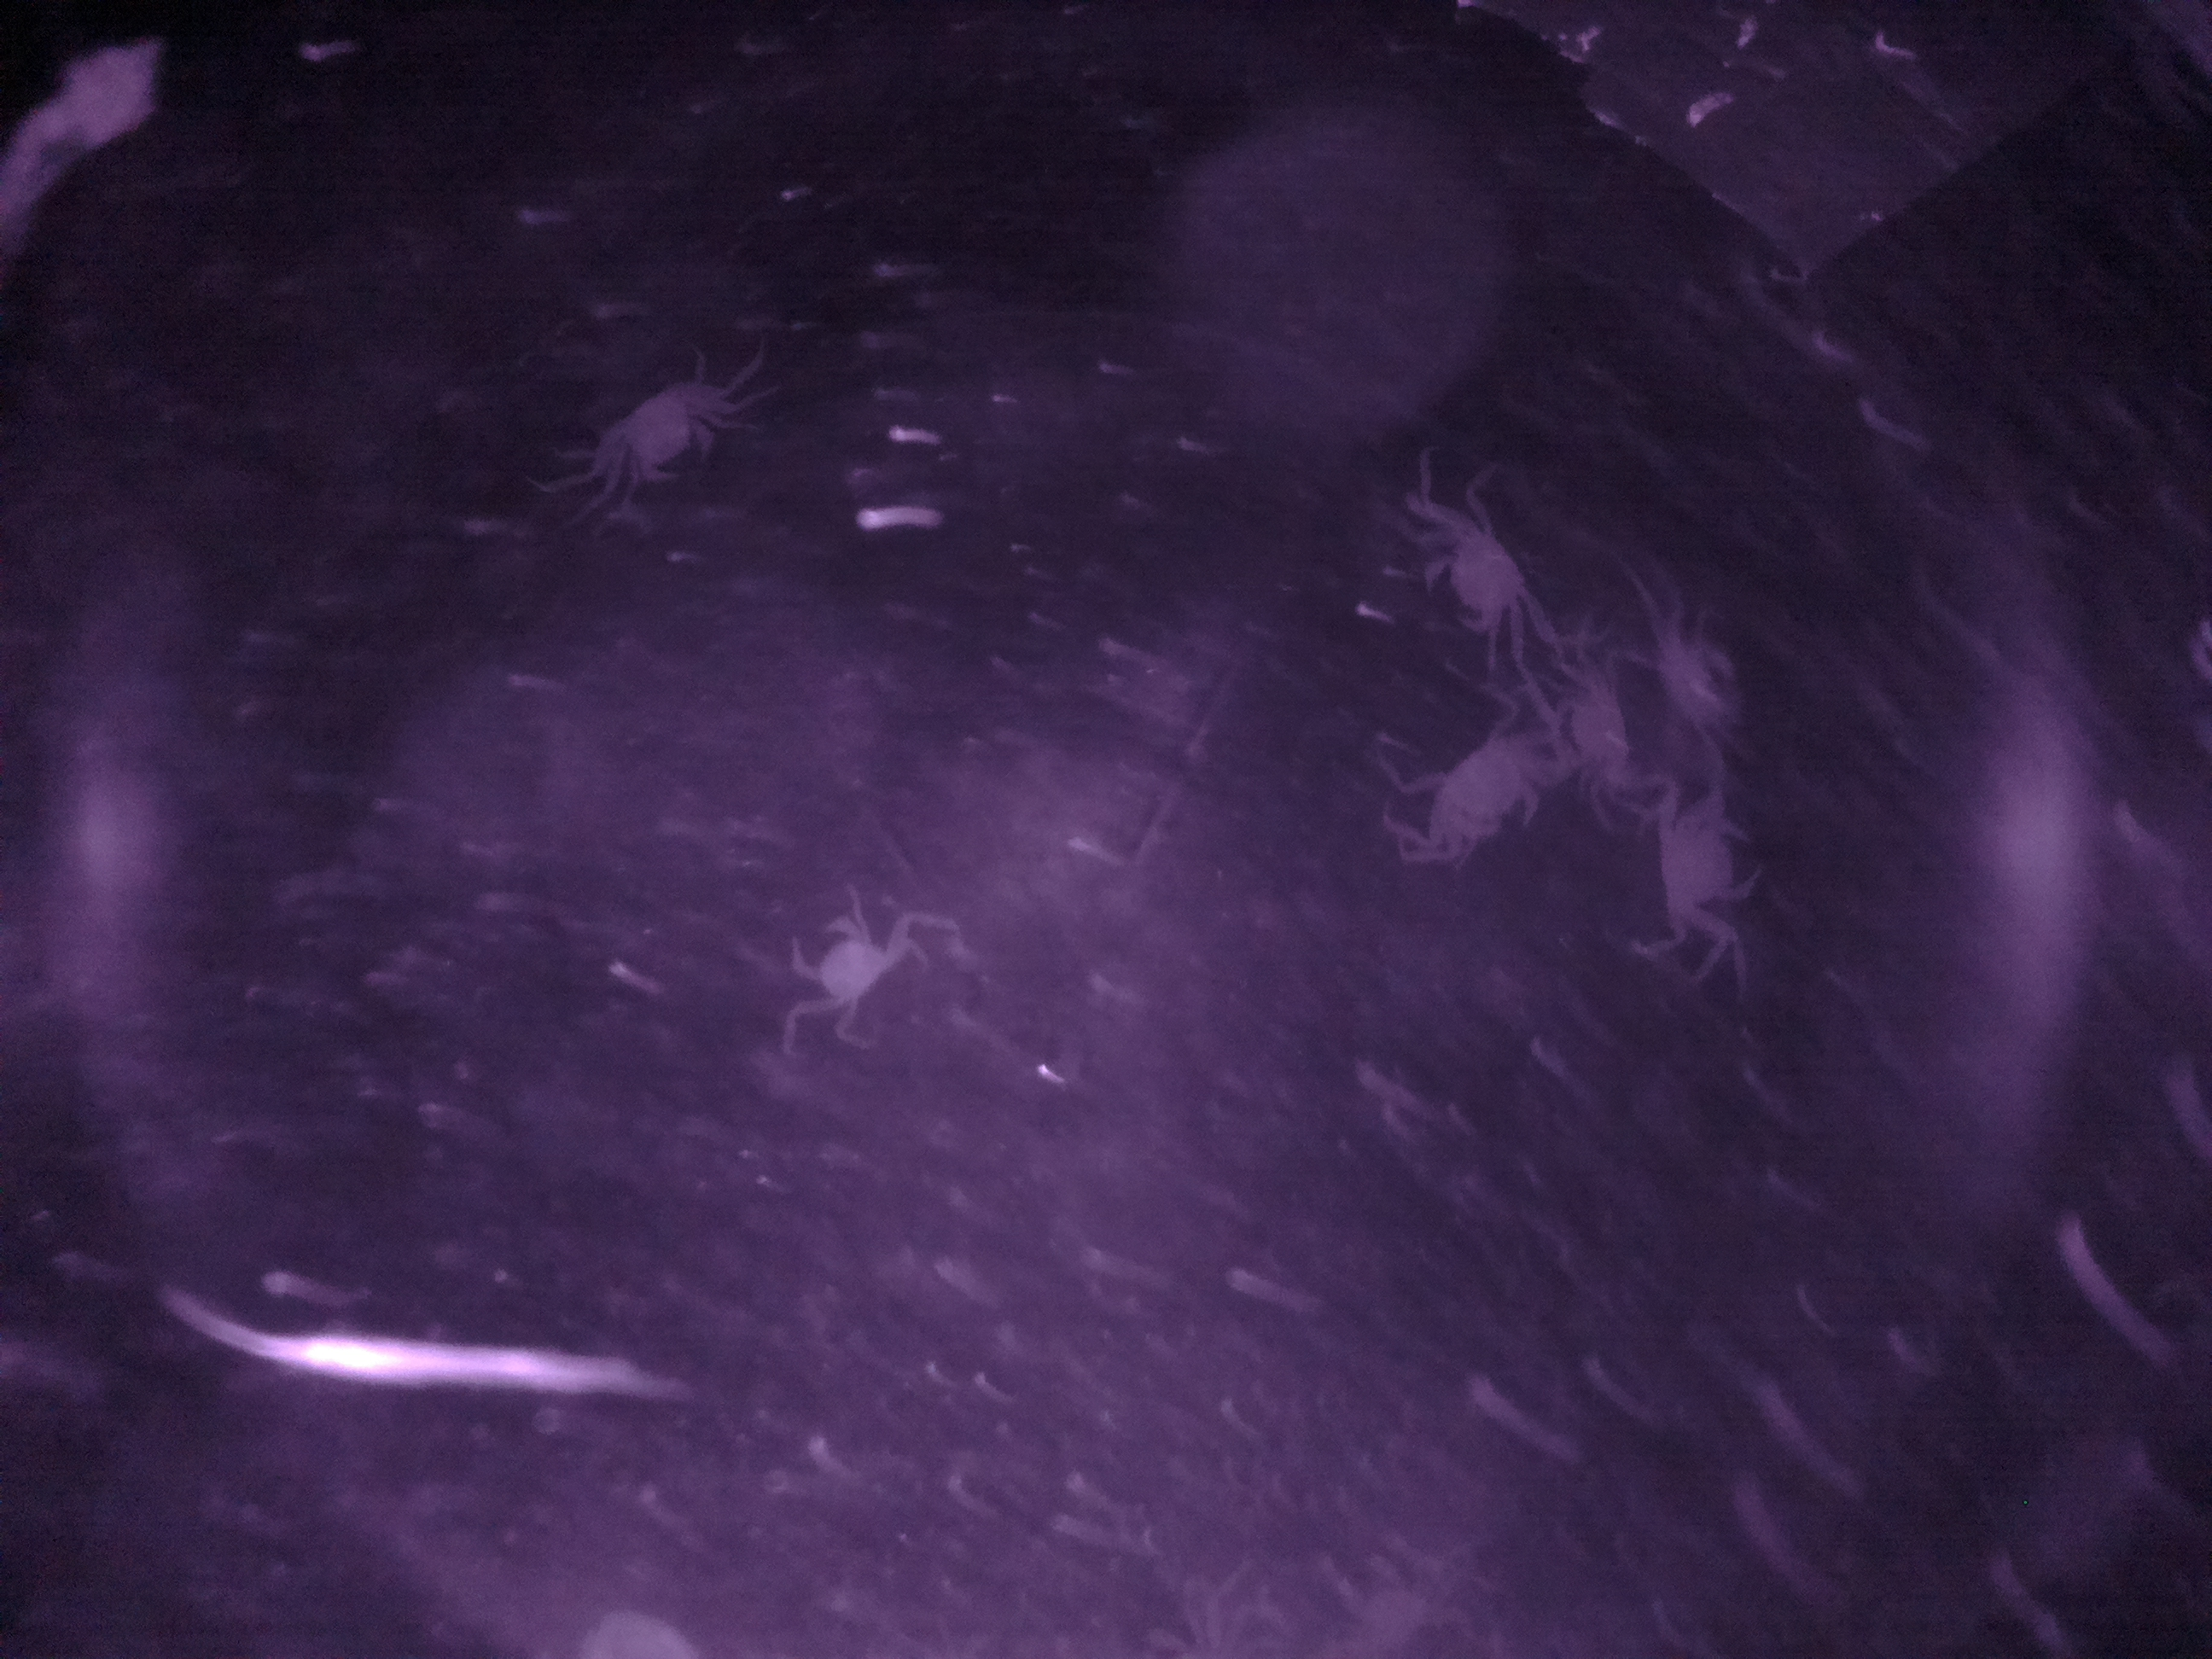Crab: (1615, 786, 1792, 948), (1395, 493, 1564, 653), (589, 354, 726, 507)
